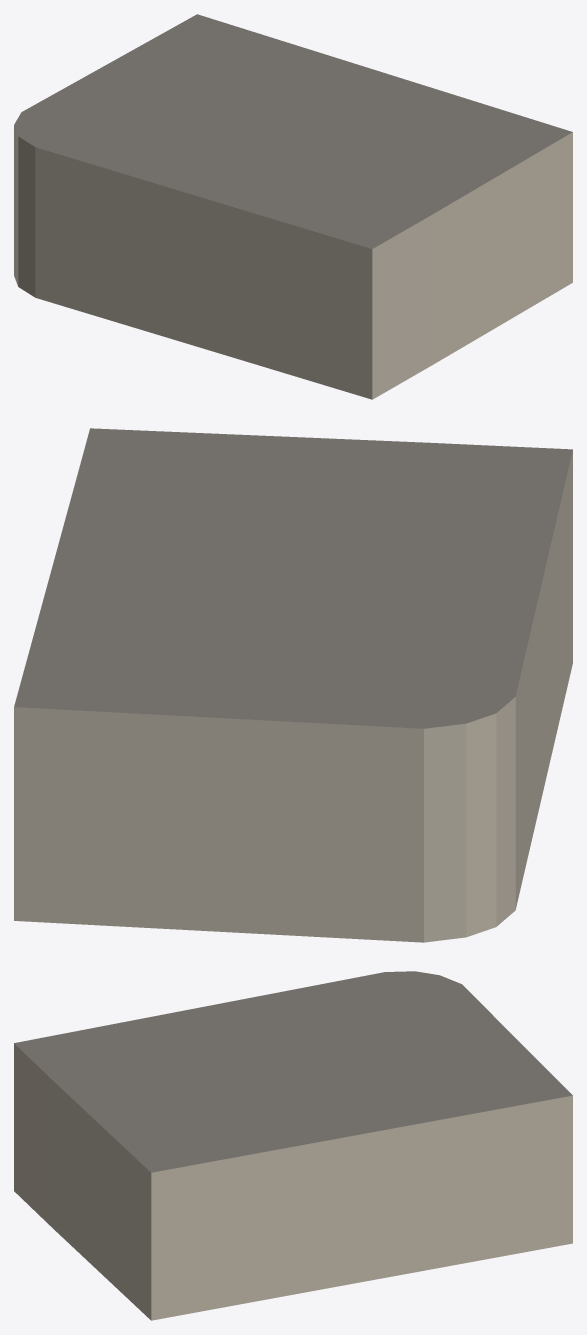
3 views of the same model, one above another, from view 1: azimuth 30°, elevation 25°; view 2: azimuth 150°, elevation 25°; view 3: azimuth 270°, elevation 25° (orthographic). The views are drawn at different scales.
Visible parts, largest first — view 1: HP-w369237937; view 2: HP-w369237937; view 3: HP-w369237937.
Boxes of the visible parts, box(x1,y1,x2,y2) form: HP-w369237937: box(14, 14, 572, 399); HP-w369237937: box(14, 428, 572, 942); HP-w369237937: box(14, 971, 572, 1320).
Bounding box in the file's own units: 52.58 × 18 × 61.63.
